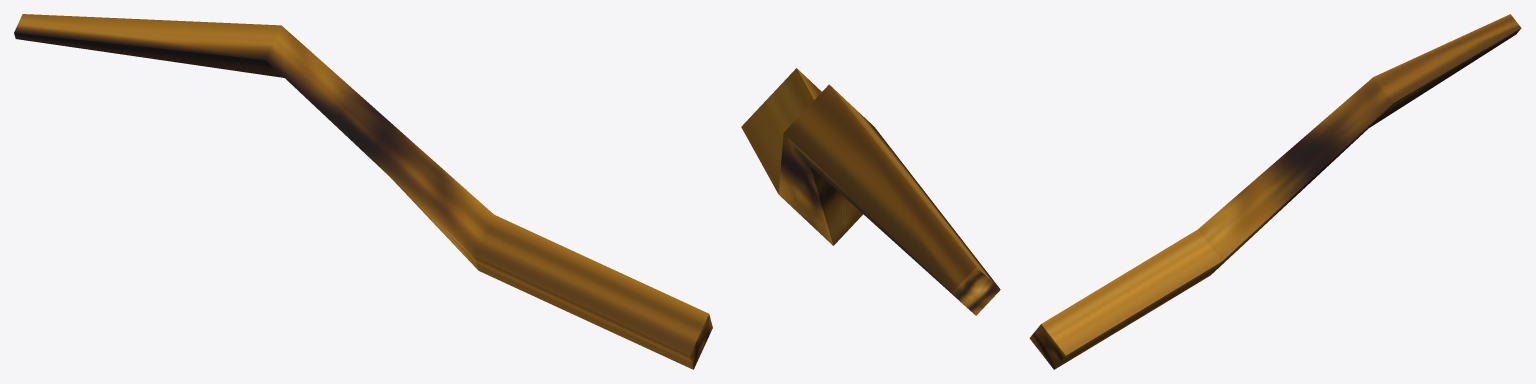
The model's file is MTree_1_B_2.gltf.
3 views of the same model, side by side, from view 1: azimuth 30°, elevation 25°; view 2: azimuth 150°, elevation 25°; view 3: azimuth 270°, elevation 25° (orthographic). The views are drawn at different scales.
Visible parts, largest first — view 1: MTree_1_B_2; view 2: MTree_1_B_2; view 3: MTree_1_B_2.
Boxes of the visible parts, left/top/right/bottom form: MTree_1_B_2: left=14, top=14, right=712, bottom=369; MTree_1_B_2: left=741, top=68, right=1000, bottom=315; MTree_1_B_2: left=1029, top=14, right=1521, bottom=369.
Size of the model in its own units: 3.62 by 2.05 by 4.41.
1 material, 1 textured.
